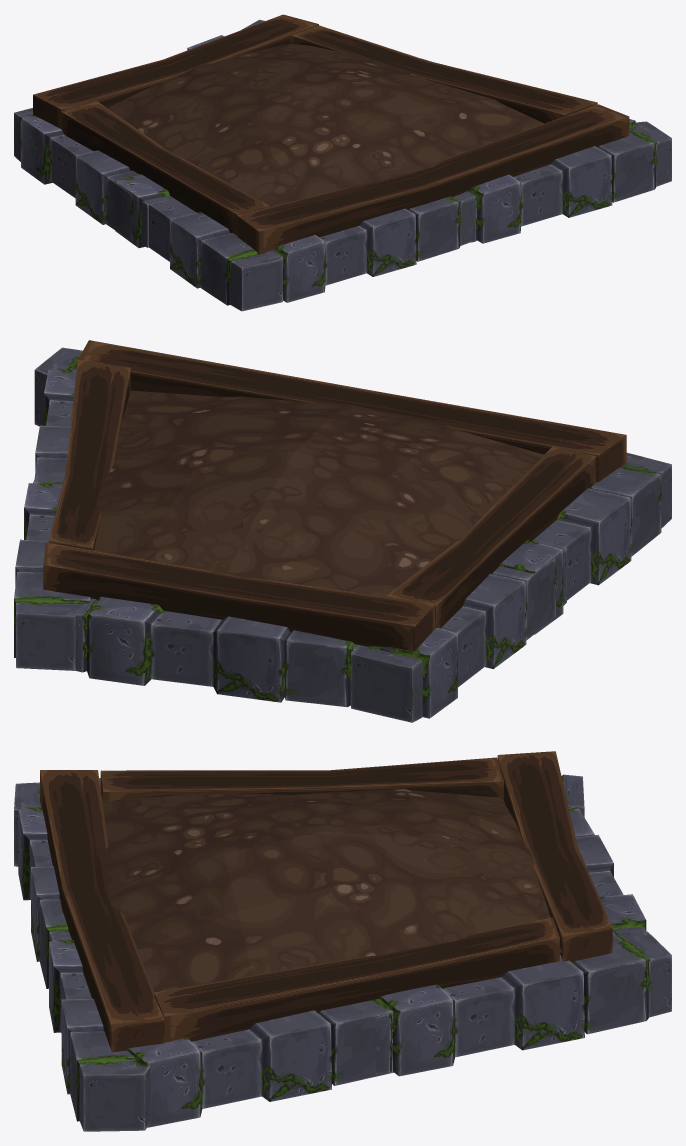
File: GardenSec3.fbx
3 views of the same model, one above another, from view 1: azimuth 30°, elevation 25°; view 2: azimuth 150°, elevation 25°; view 3: azimuth 270°, elevation 25° (orthographic). The views are drawn at different scales.
Parts seen in each view (by area): view 1: Plane.003; view 2: Plane.003; view 3: Plane.003.
Part boxes in pixels (x1=…): Plane.003: x1=14, y1=14, x2=671, y2=311; Plane.003: x1=14, y1=340, x2=671, y2=722; Plane.003: x1=14, y1=751, x2=671, y2=1131.
Bounding box in the file's own units: 7.98 × 1.6 × 7.37.
3 materials, 3 textured.
